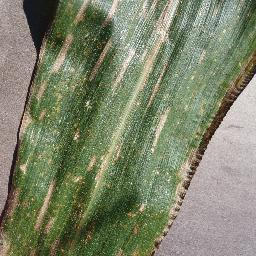Gray_Leaf_Spot: (21, 0, 89, 87), (0, 178, 62, 256), (63, 161, 109, 256), (211, 56, 256, 142), (7, 80, 49, 172), (180, 122, 221, 211), (86, 0, 126, 76), (139, 0, 175, 83), (107, 37, 154, 96), (152, 195, 194, 255), (142, 104, 173, 147), (128, 202, 156, 249), (105, 112, 130, 161), (70, 149, 107, 177), (193, 47, 223, 74), (45, 85, 67, 111), (66, 120, 86, 146), (115, 240, 128, 256)
